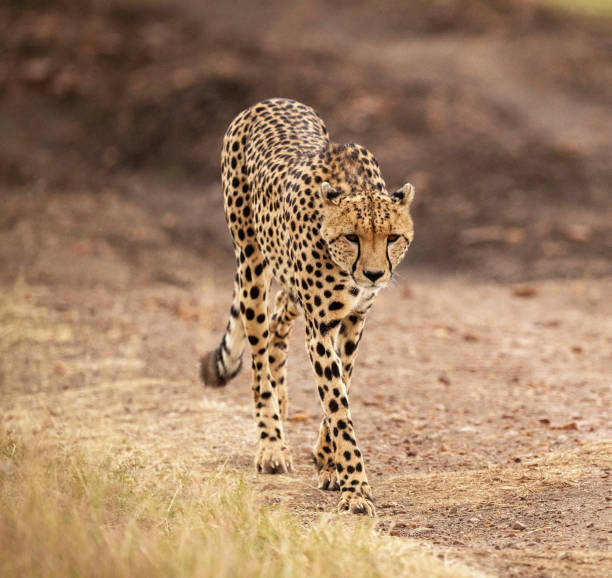cheetah: (312, 166, 440, 309)
